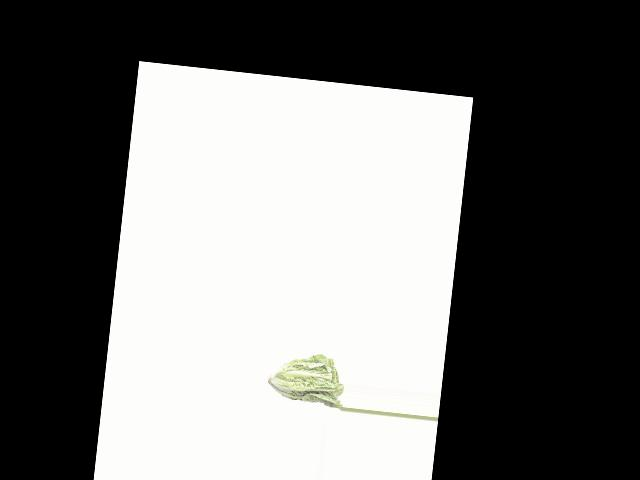lettuce: (267, 346, 347, 408)
